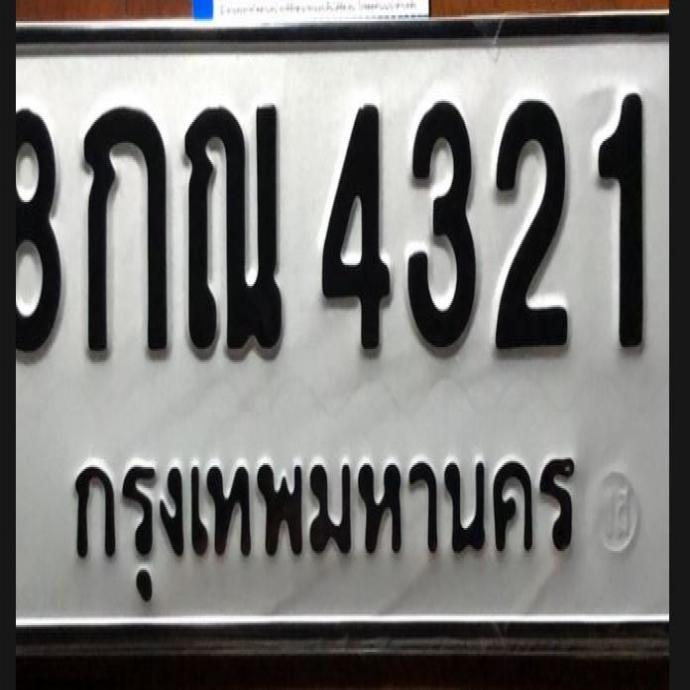1: (595, 87, 644, 349)
2: (491, 92, 571, 351)
3: (404, 93, 479, 354)
4: (316, 97, 392, 355)
8: (15, 101, 70, 357)
A01: (69, 97, 171, 357)
A19: (178, 97, 285, 360)
BKK: (58, 423, 588, 613)
